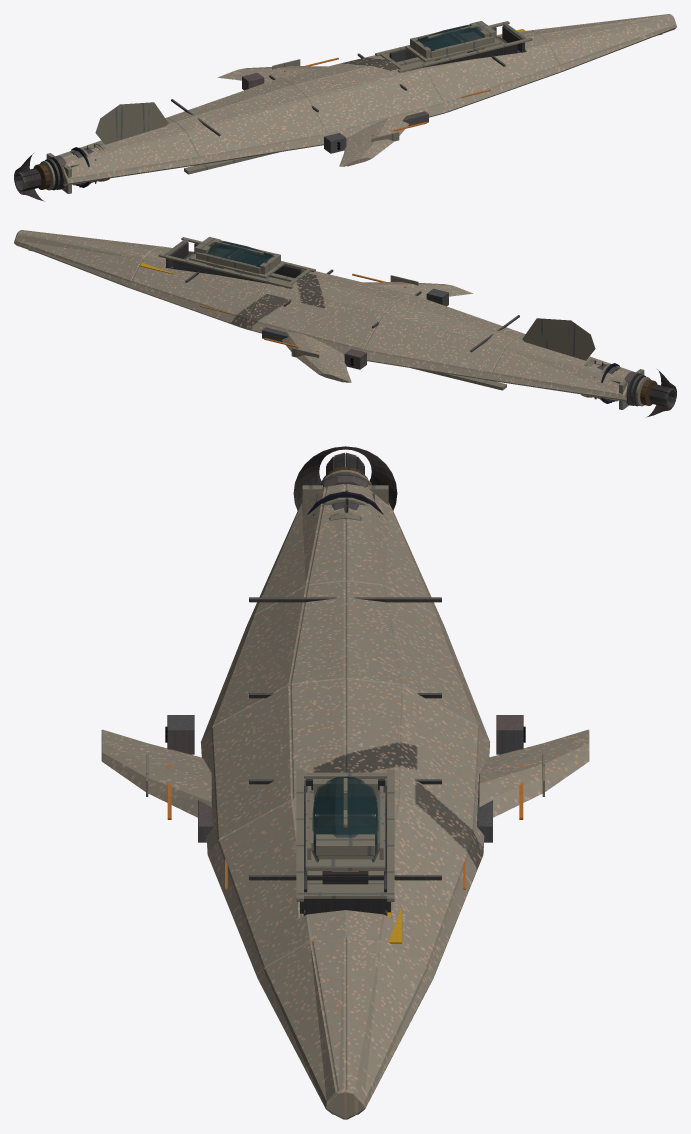
File: helios_lark_production_v1_lod0.glb
The picture shows the model from 3 angles, top to bottom: view 1: azimuth 30°, elevation 25°; view 2: azimuth 150°, elevation 25°; view 3: azimuth 270°, elevation 25°; orthographic projection. The views are drawn at different scales.
Visible parts, largest first — view 1: LOD0_Hull, LOD0_Armor, LOD0_Mechanical, LOD0_Canopy; view 2: LOD0_Hull, LOD0_Armor, LOD0_Mechanical, LOD0_Canopy; view 3: LOD0_Hull, LOD0_Armor, LOD0_Mechanical, LOD0_Canopy.
Part boxes in pixels (left/top/right/bottom): LOD0_Hull: left=57, top=14, right=676, bottom=185; LOD0_Armor: left=40, top=21, right=532, bottom=193; LOD0_Mechanical: left=14, top=26, right=662, bottom=201; LOD0_Canopy: left=416, top=25, right=483, bottom=51; LOD0_Hull: left=14, top=230, right=633, bottom=401; LOD0_Armor: left=158, top=237, right=650, bottom=409; LOD0_Mechanical: left=28, top=242, right=676, bottom=417; LOD0_Canopy: left=207, top=241, right=274, bottom=267; LOD0_Hull: left=101, top=484, right=589, bottom=1119; LOD0_Armor: left=146, top=470, right=544, bottom=901; LOD0_Mechanical: left=167, top=446, right=523, bottom=915; LOD0_Canopy: left=312, top=777, right=378, bottom=862.
Size of what is drawn, in the model's own units: 13.3 by 1.65 by 4.3.
Materials: 9 (9 with a texture image).
